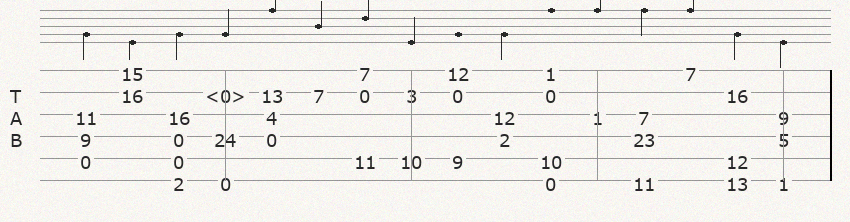0: (80, 150, 95, 167), (173, 128, 188, 145), (173, 150, 188, 167), (220, 172, 235, 189), (266, 128, 281, 145), (359, 84, 374, 101), (452, 84, 467, 101), (545, 84, 560, 101), (545, 172, 560, 189)
1: (545, 62, 560, 79), (592, 106, 607, 123), (778, 172, 793, 189)
10: (400, 150, 426, 167), (540, 150, 566, 167)
11: (75, 106, 101, 123), (354, 150, 380, 167), (633, 172, 659, 189)
12: (447, 62, 473, 79), (493, 106, 519, 123), (726, 150, 752, 167)
13: (261, 84, 287, 101), (726, 172, 752, 189)
15: (121, 62, 147, 79)
16: (121, 84, 147, 101), (168, 106, 194, 123), (726, 84, 752, 101)
2: (173, 172, 188, 189), (499, 128, 514, 145)
23: (633, 128, 659, 145)
24: (214, 128, 240, 145)
3: (406, 84, 421, 101)
4: (266, 106, 281, 123)
5: (778, 128, 793, 145)
7: (313, 84, 328, 101), (359, 62, 374, 79), (638, 106, 653, 123), (685, 62, 700, 79)
9: (80, 128, 95, 145), (452, 150, 467, 167), (778, 106, 793, 123)
harmonic: (205, 84, 250, 101)
